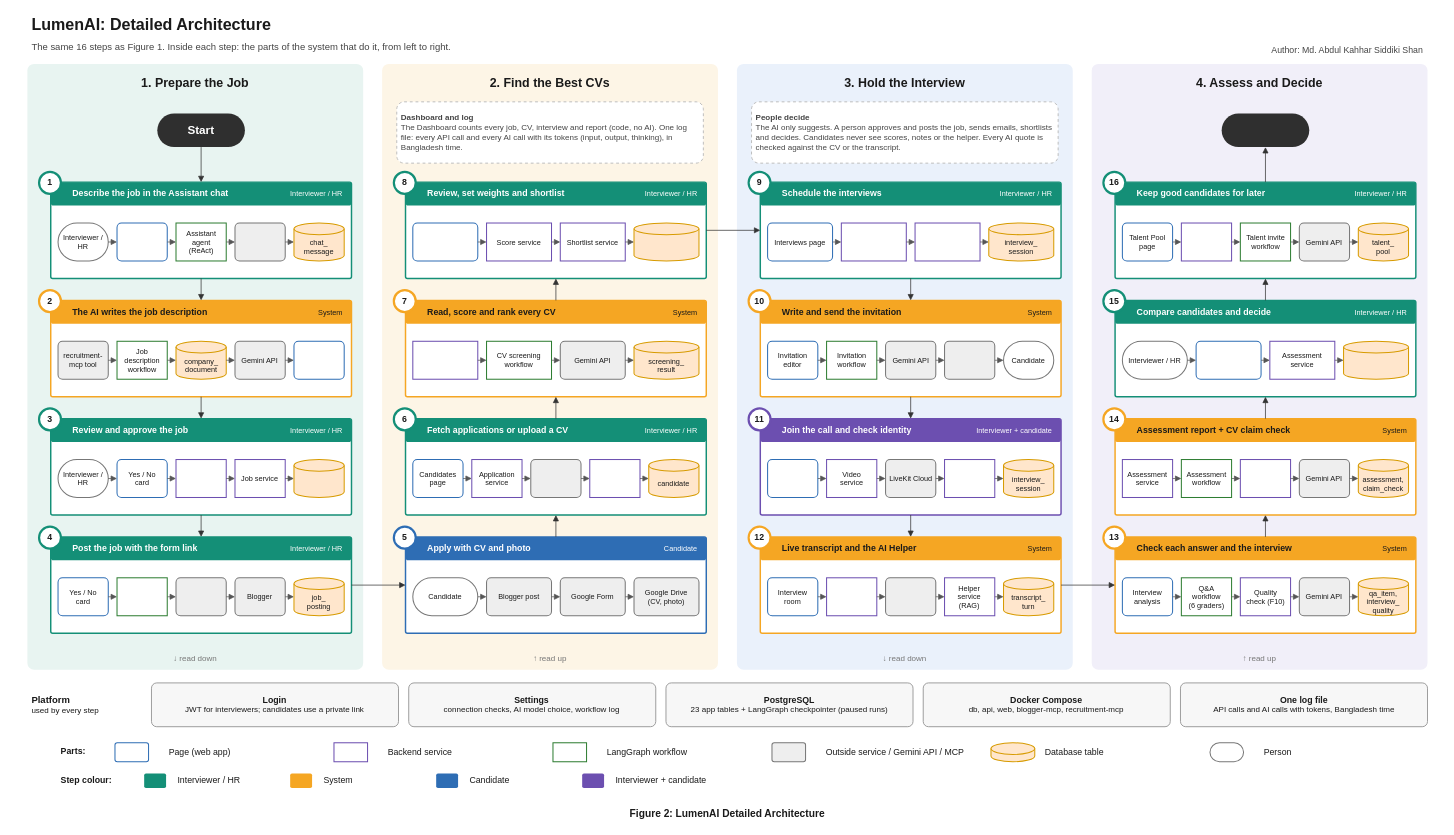
The diagram is 1454 pixels wide and 835 high, and some of its shapes have lost their labels. The shapes that lost their labels are listed below. From the top down, each one's box as (x1, y1, x2, y2) in pixels, then its label:
(1221, 113, 1309, 147): End
(116, 222, 167, 261): Jobs page (Chat tab)
(234, 222, 285, 261): recruitment- mcp tools
(412, 222, 478, 261): Screening / Shortlist
(633, 222, 699, 261): shortlist_ entry
(840, 222, 906, 261): Interview service
(914, 222, 980, 261): Slot service
(1180, 222, 1232, 261): Talent pool service
(293, 340, 344, 379): Draft shown in the chat
(412, 340, 478, 379): Screening worker
(944, 340, 995, 379): Email (SMTP + .ics)
(1195, 340, 1261, 379): Reports page
(1343, 340, 1409, 379): assessment (decision)
(175, 459, 226, 498): Assistant service
(293, 459, 344, 498): job
(530, 459, 581, 498): Forms / Drive API
(589, 459, 640, 498): Face service (OpenCV)
(767, 459, 818, 498): Join page + room
(944, 459, 995, 498): Identity service (OpenCV)
(1239, 459, 1291, 498): Claim check (F8)
(116, 577, 167, 616): Job posting workflow
(175, 577, 226, 616): blogger-mcp
(826, 577, 877, 616): Transcript service
(885, 577, 936, 616): Deepgram
